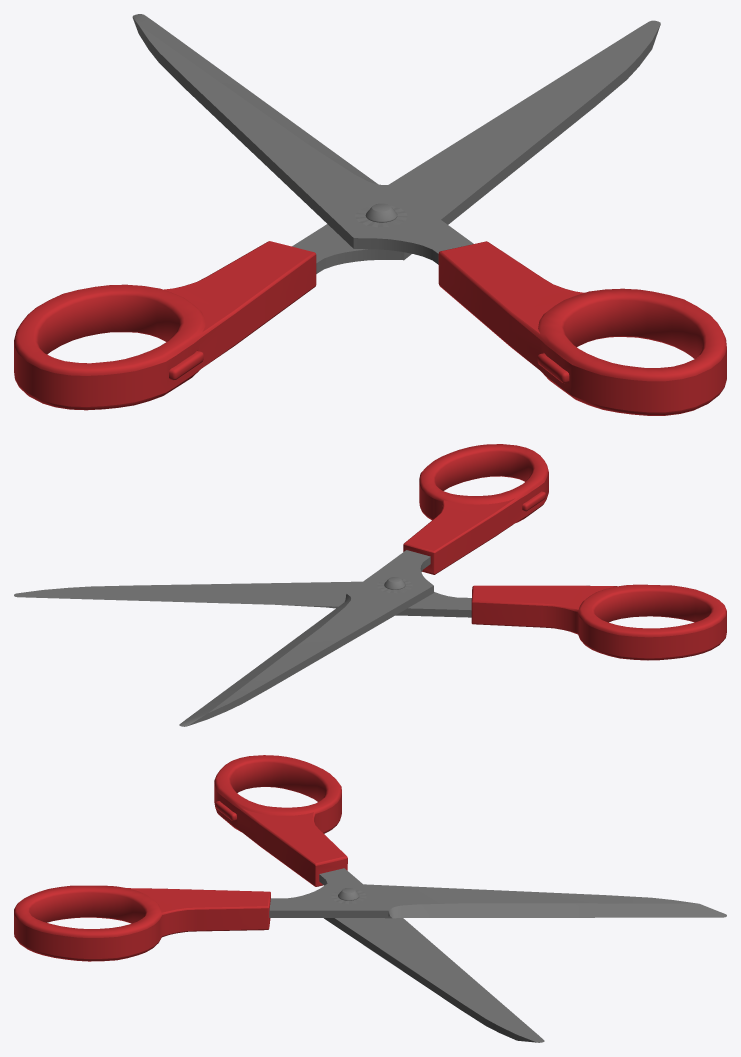
Rendered from tisores.fbx.
3 views of the same model, one above another, from view 1: azimuth 30°, elevation 25°; view 2: azimuth 150°, elevation 25°; view 3: azimuth 270°, elevation 25° (orthographic). The views are drawn at different scales.
Visible parts, largest first — view 1: top_blade, bottom_blade, pin; view 2: bottom_blade, top_blade; view 3: top_blade, bottom_blade.
Boxes of the visible parts, bbox=[...] form: top_blade: bbox=[132, 14, 726, 415]; bottom_blade: bbox=[14, 20, 660, 410]; pin: bbox=[355, 203, 407, 227]; bottom_blade: bbox=[14, 581, 726, 660]; top_blade: bbox=[179, 444, 548, 726]; top_blade: bbox=[14, 883, 726, 961]; bottom_blade: bbox=[214, 755, 544, 1042].
Bounding box in the file's own units: 2229 × 113 × 2432.
